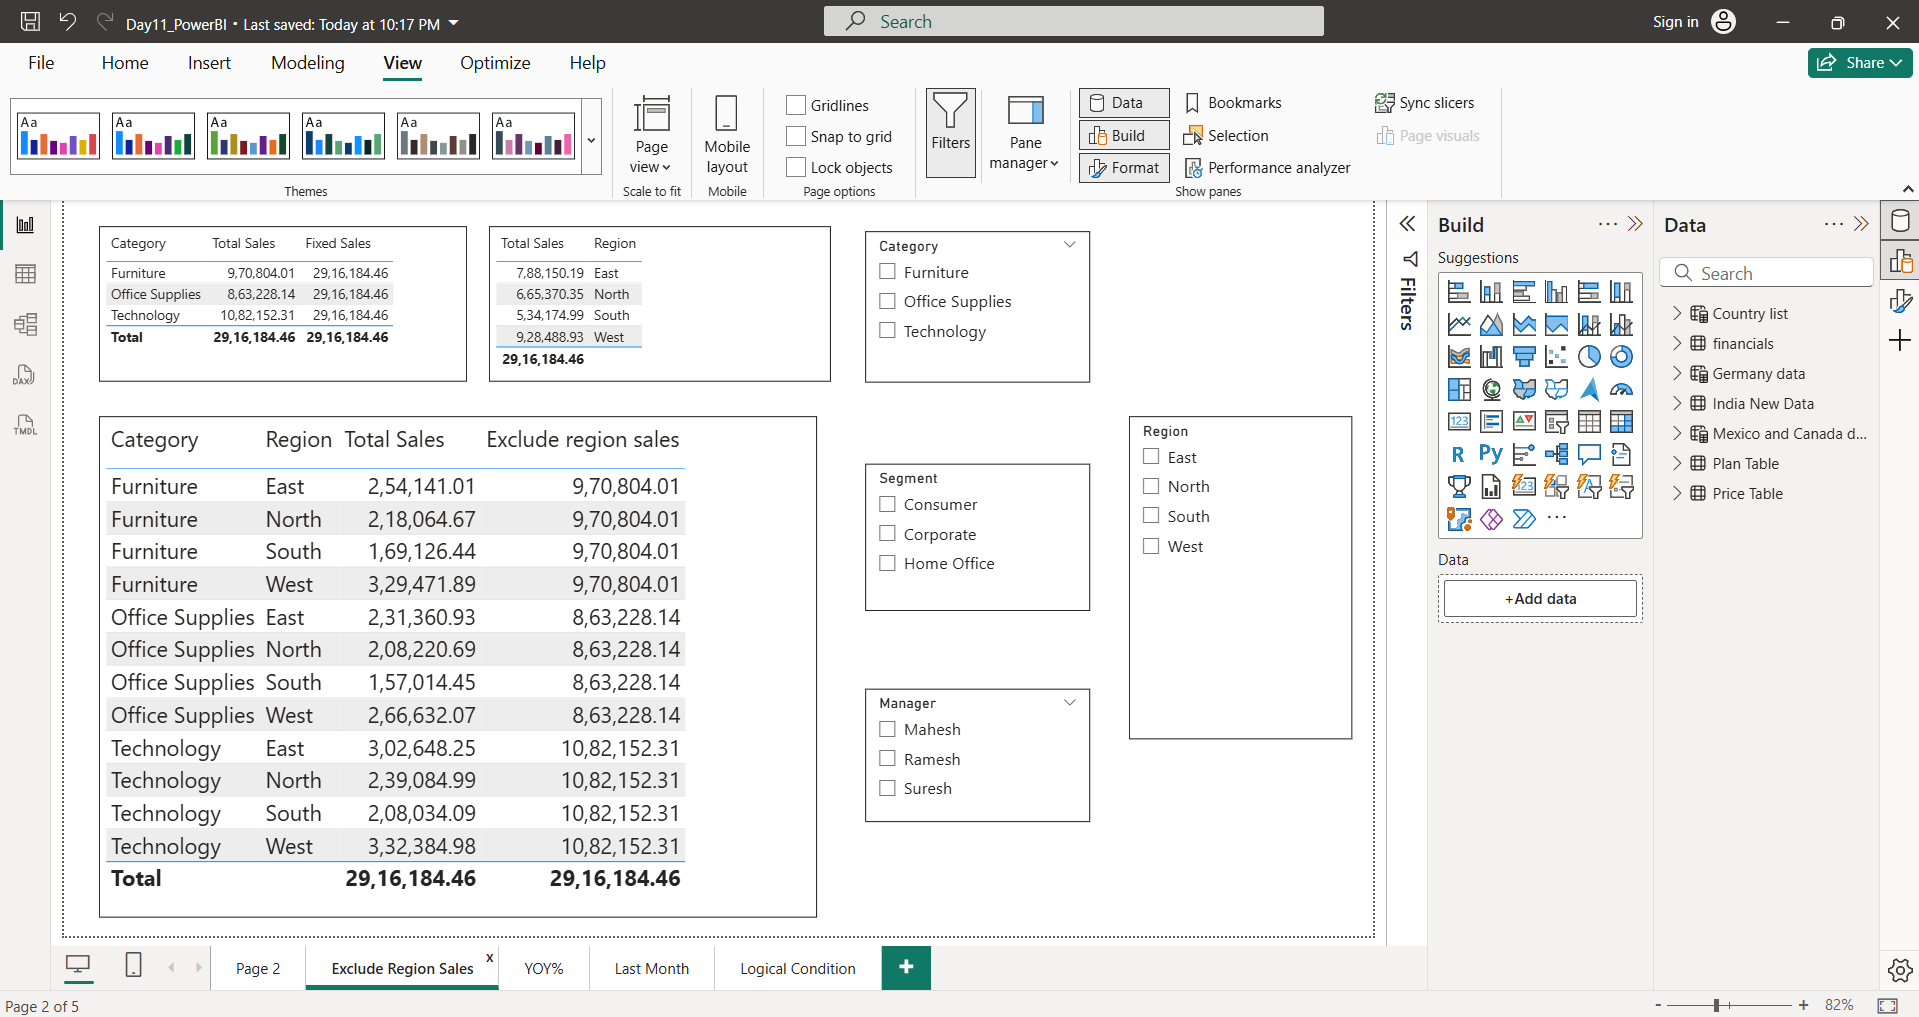

The dashboard page shown, as its layout file describes it:
{"tool":"powerbi","page":{"name":"Exclude Region Sales","canvas":[1280,720],"ordinal":1},"visuals":[{"type":"tableEx","fields":{"Values":["India New Data.Category","India New Data.Region","India New Data.Total Sales","India New Data.Exclude region sales"]},"box":[34,212,702,490],"z":0},{"type":"tableEx","fields":{"Values":["India New Data.Category","India New Data.Total Sales","India New Data.Fixed Sales"]},"box":[34,26,360,152],"z":1000},{"type":"tableEx","fields":{"Values":["India New Data.Total Sales","India New Data.Region"]},"box":[416,26,334,152],"z":2000},{"type":"slicer","fields":{"Values":["India New Data.Category"]},"box":[784,30,220,148],"z":3000},{"type":"slicer","fields":{"Values":["India New Data.Segment"]},"box":[784,258,220,144],"z":4000},{"type":"slicer","fields":{"Values":["India New Data.Manager"]},"box":[784,478,220,130],"z":5000},{"type":"slicer","fields":{"Values":["India New Data.Region"]},"box":[1042,212,218,316],"z":6000}]}

Visuals, with their boxes on the page's 1280x720 design canvas (x1, y1, x2, y2). These are canvas units, not pixel positions in the 1919x1017 screenshot, which may show the page scaled, cropped or inside an application window:
tableEx - India New Data.Category x India New Data.Region: 34:212:736:702
tableEx - India New Data.Category x India New Data.Total Sales: 34:26:394:178
tableEx - India New Data.Total Sales x India New Data.Region: 416:26:750:178
slicer - India New Data.Category: 784:30:1004:178
slicer - India New Data.Segment: 784:258:1004:402
slicer - India New Data.Manager: 784:478:1004:608
slicer - India New Data.Region: 1042:212:1260:528
